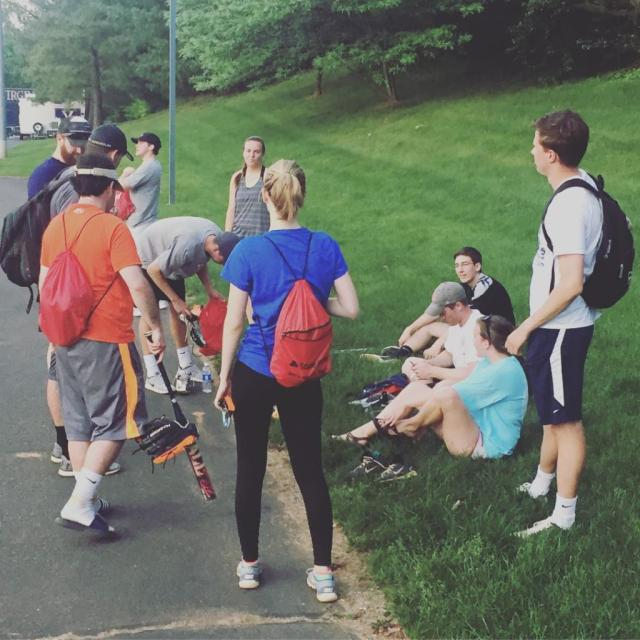body: (212, 153, 362, 606), (503, 109, 636, 542), (34, 148, 171, 544), (0, 116, 139, 480), (23, 114, 121, 438), (329, 313, 530, 462), (131, 214, 242, 396), (360, 245, 518, 364), (398, 279, 490, 390), (116, 130, 163, 246), (224, 134, 271, 238)
